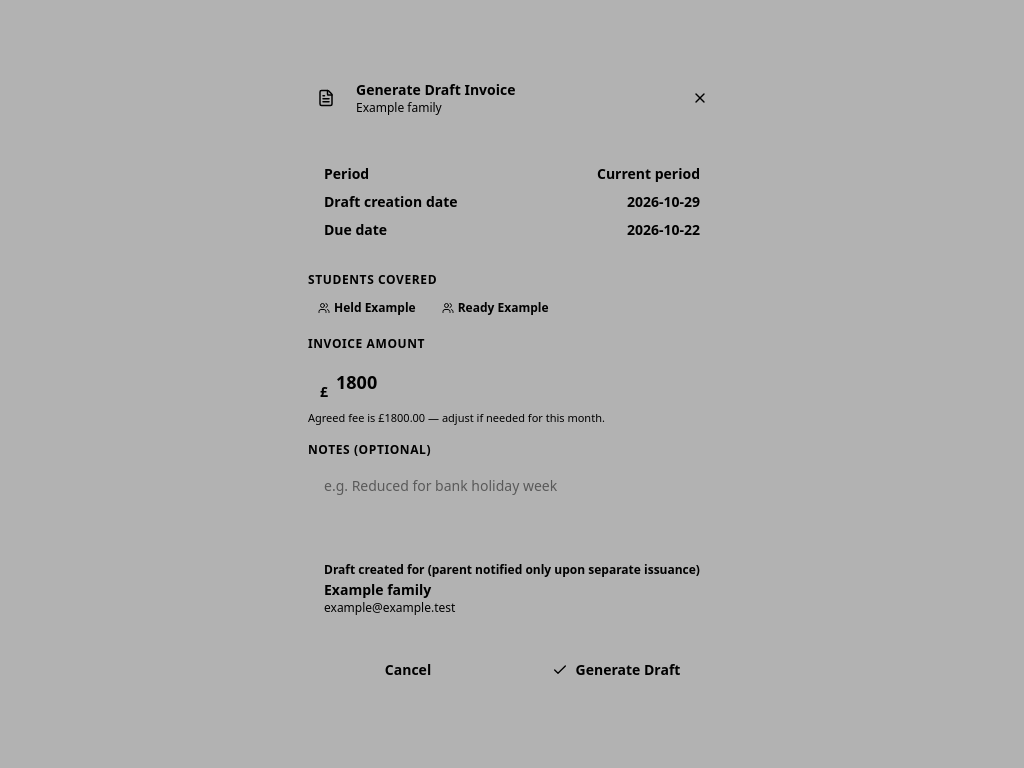
Test case: draft generation recovery › replaces redacted transport failures with a safe uncertain-result message
The image size is (1024, 768).
Click the button "Generate Draft" at (616, 670), box [516, 648, 716, 692]
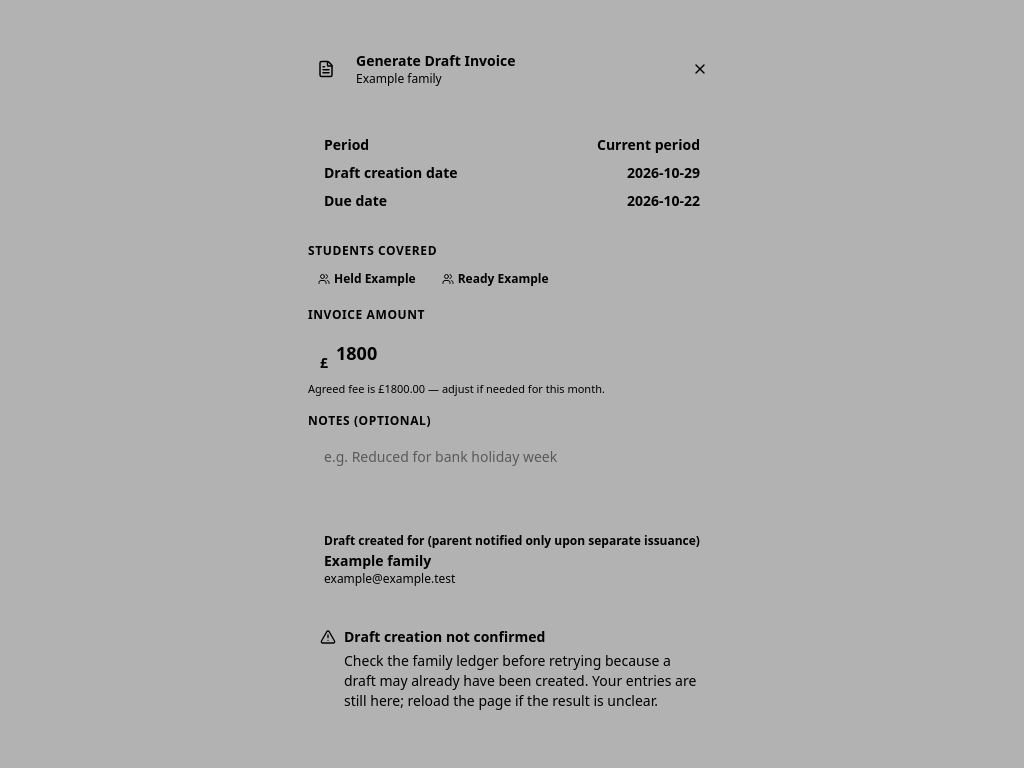
Check: the message shows "Draft creation not confirmed", box [344, 627, 546, 646]
